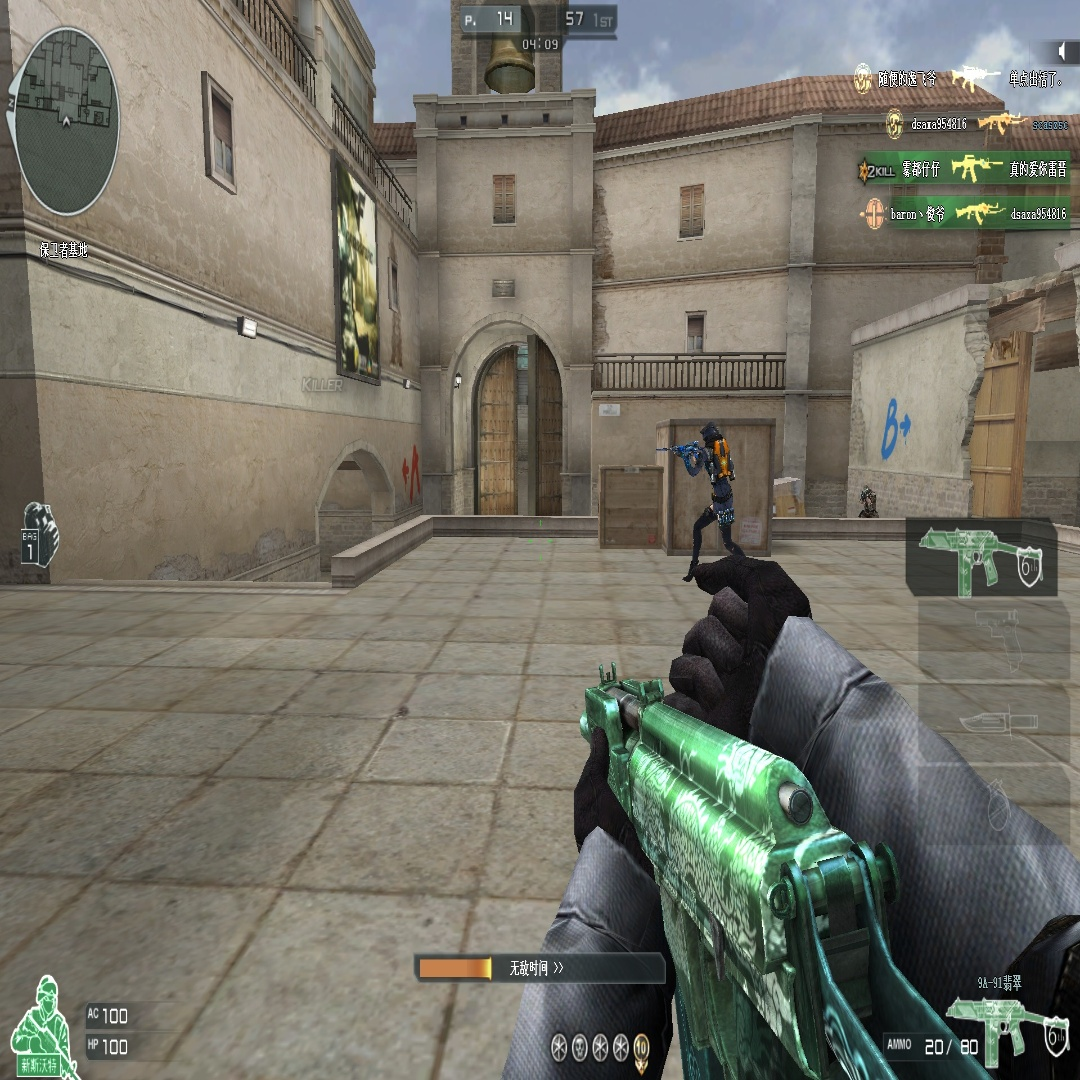head: (701, 423, 721, 446)
p: (683, 428, 735, 586)
